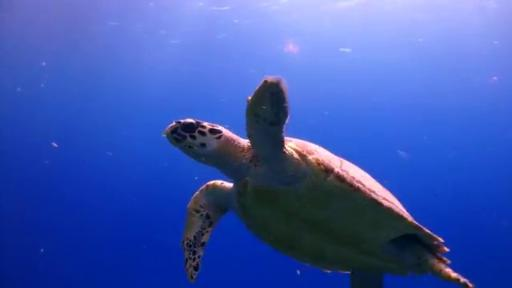Fish: (164, 77, 473, 287)
